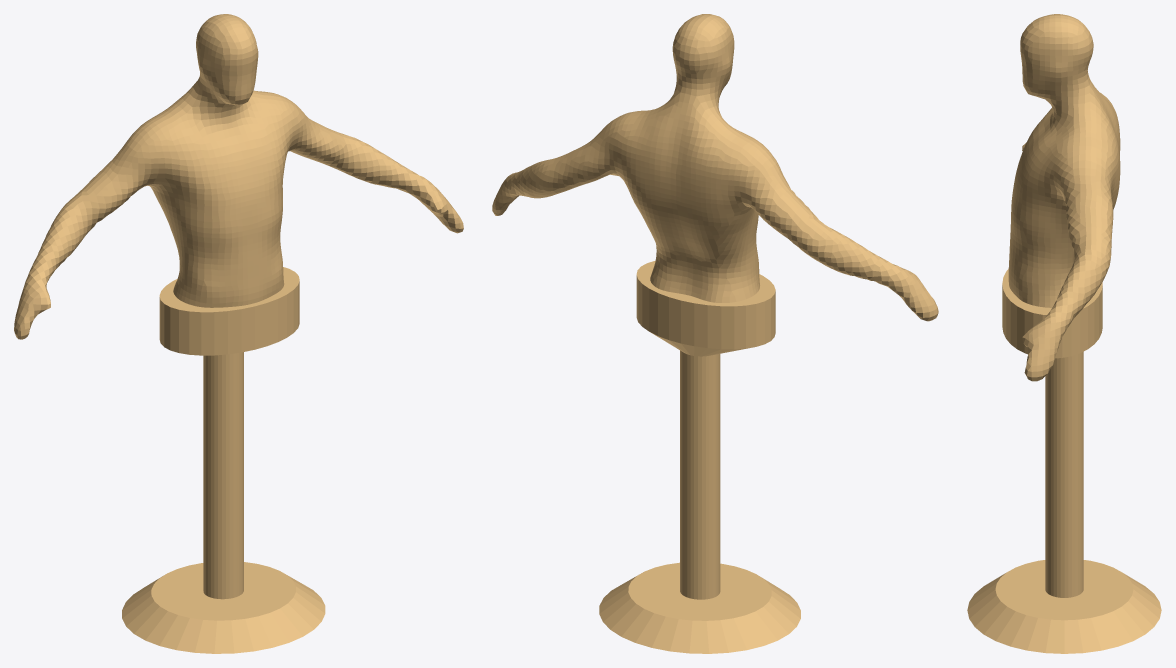
3 renders of one model, left to right at view 1: azimuth 30°, elevation 25°; view 2: azimuth 150°, elevation 25°; view 3: azimuth 270°, elevation 25°, orthographic.
Visible parts, largest first — view 1: маникен; view 2: маникен; view 3: маникен.
Part boxes in pixels (x1=…): маникен: x1=14, y1=14, x2=463, y2=653; маникен: x1=492, y1=14, x2=938, y2=653; маникен: x1=967, y1=14, x2=1161, y2=653.
Bounding box in the file's own units: 2730 × 3492 × 1036.
